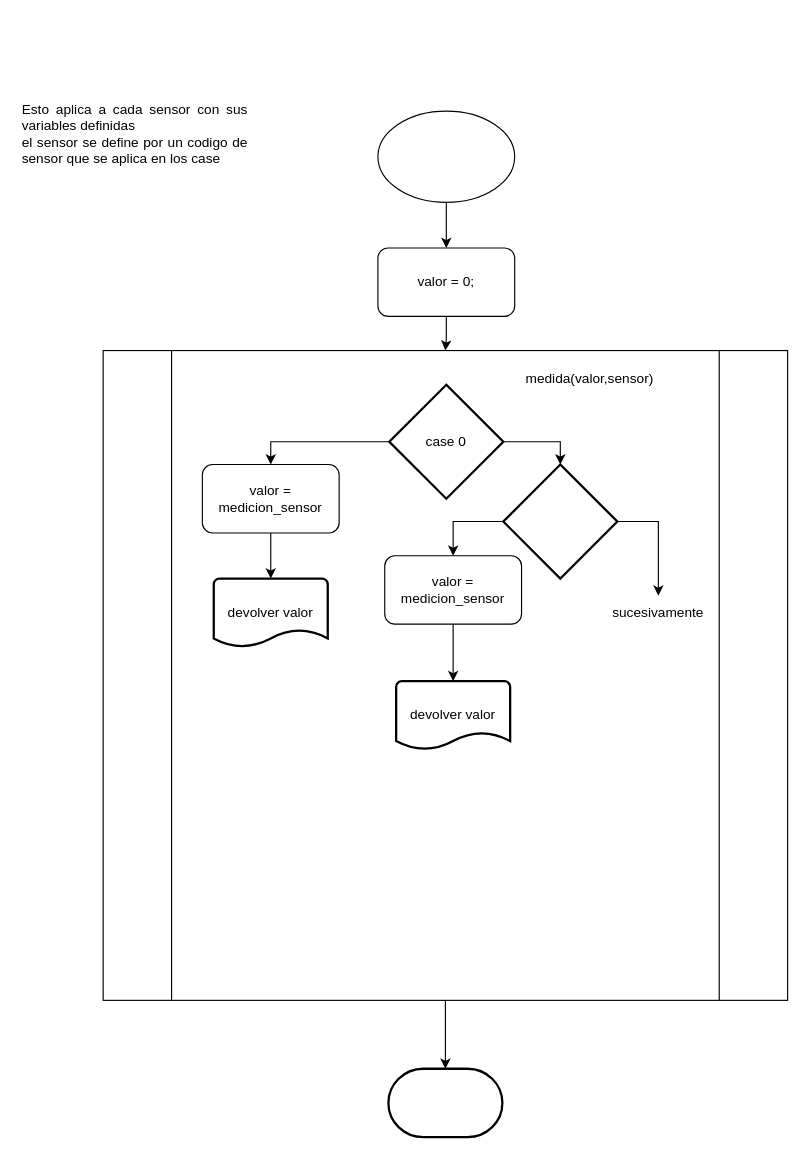
Some shapes in this 807 by 1157 pixel diagram are drawn without their labels. Each missing label, with the box of its shape:
case 1: (502, 463, 618, 579)
Fin: (387, 1067, 503, 1138)
Inicio: (377, 110, 515, 202)
